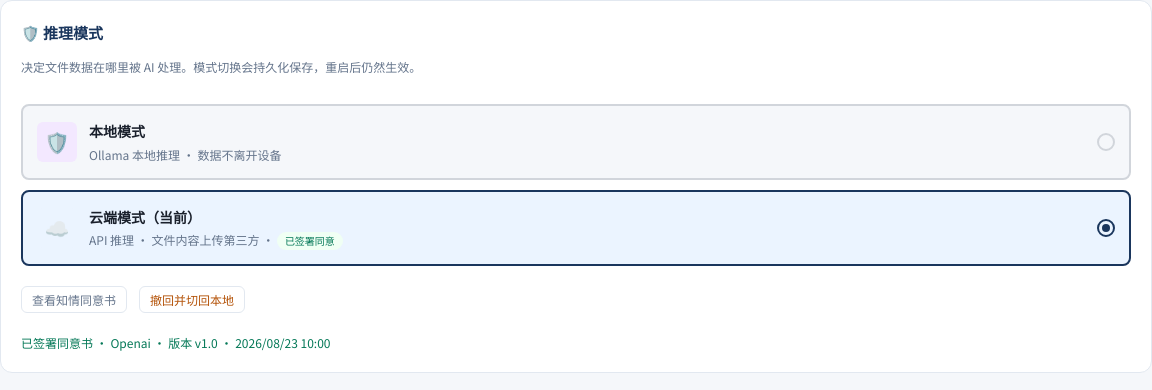
InferenceModeSection › revokes consent and switches back to local mode when clicking local from cloud
What coordinates should you click on to do the following:
click the radio button with test id "mode-option-local"
I would click on:
 (576, 142)
Its box is x1=21 y1=104 x2=1131 y2=180.
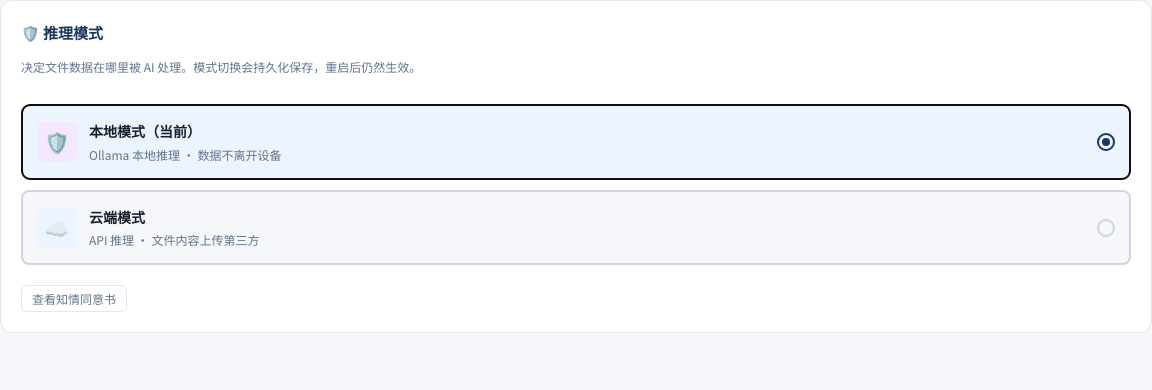
Check: the text "已签署同意书" is gone
